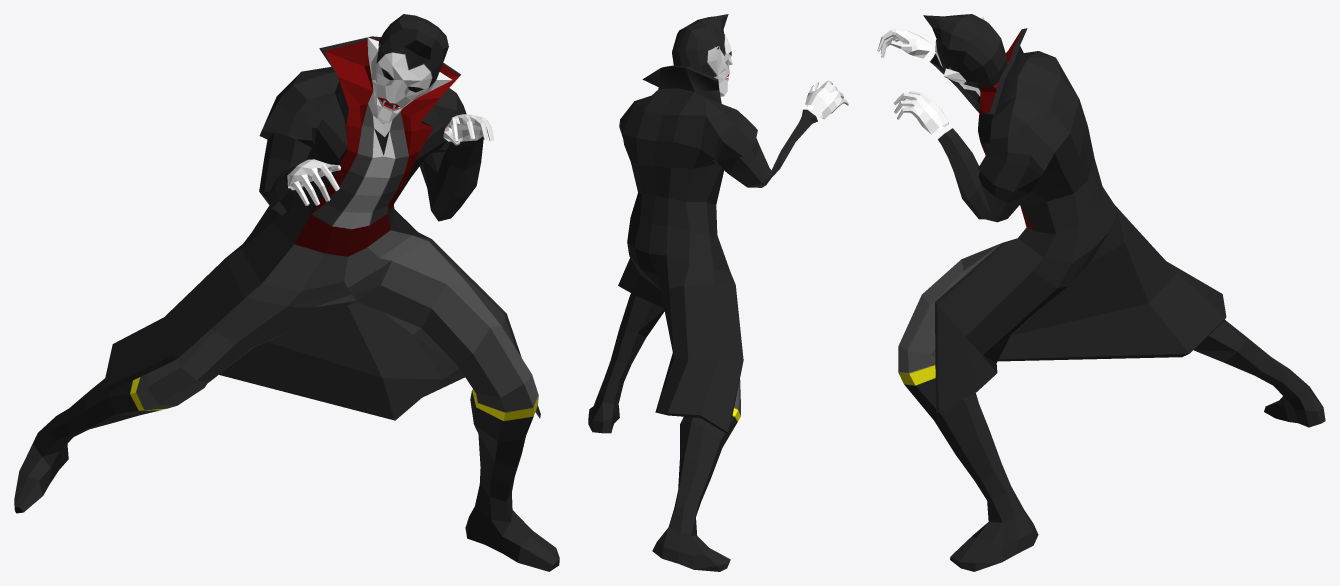
File: VampireAttack(28).obj
3 renders of one model, left to right at view 1: azimuth 30°, elevation 25°; view 2: azimuth 150°, elevation 25°; view 3: azimuth 270°, elevation 25°, orthographic. The views are drawn at different scales.
Visible parts, largest first — view 1: Plane002; view 2: Plane002; view 3: Plane002.
Part boxes in pixels (x1=…): Plane002: x1=14, y1=14, x2=559, y2=571; Plane002: x1=588, y1=14, x2=848, y2=571; Plane002: x1=877, y1=14, x2=1325, y2=571.
Bounding box in the file's own units: 71.66 × 107 × 88.62.
